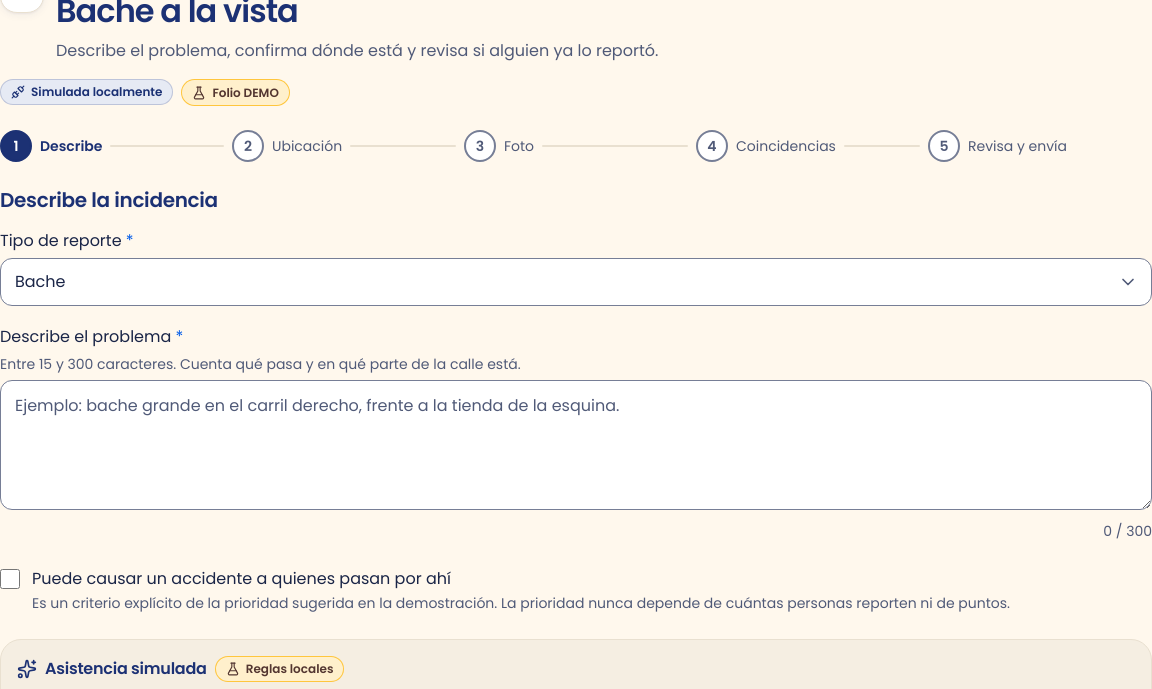
Test: Nuevo reporte (Bache a la vista) › geolocalización rechazada: lo explica y deja seguir con la dirección escrita
Step 1. Type "Bache grande en el carril derecho, frente a la tienda." into the text box labelled "Describe el problema *" → point(576, 445), box top-left (0, 380), bottom-right (1151, 510)
(page scrolled)
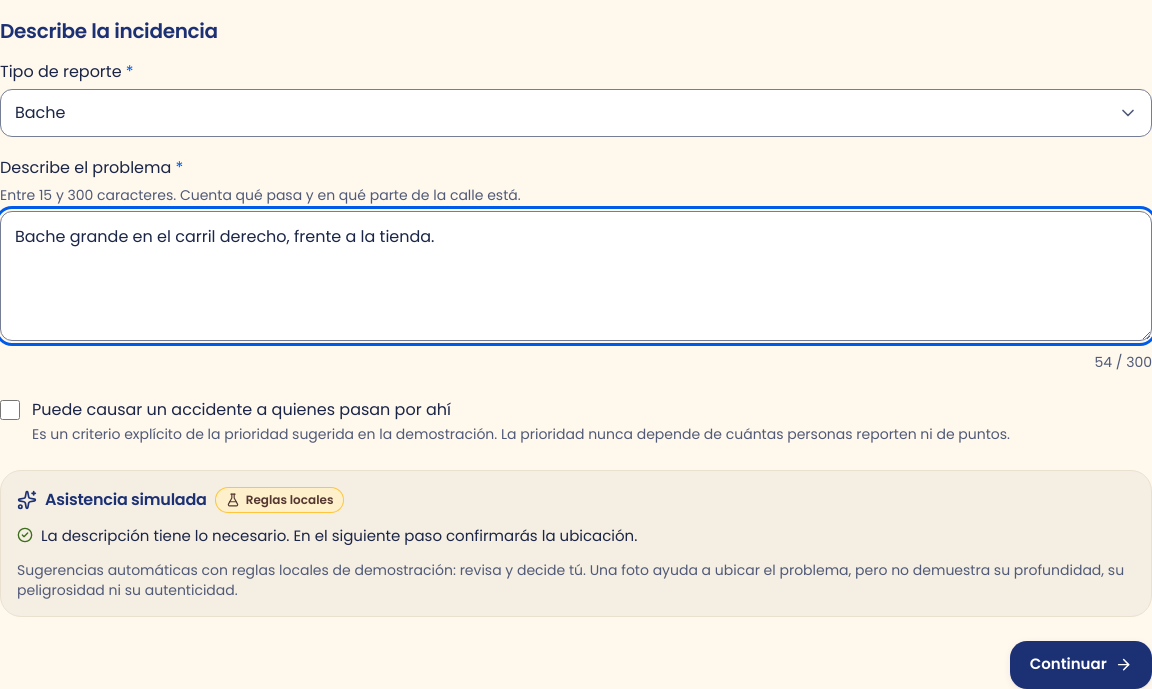
Step 2. Click the button "Continuar" → point(1081, 664), box top-left (1010, 640), bottom-right (1151, 688)
(page scrolled)
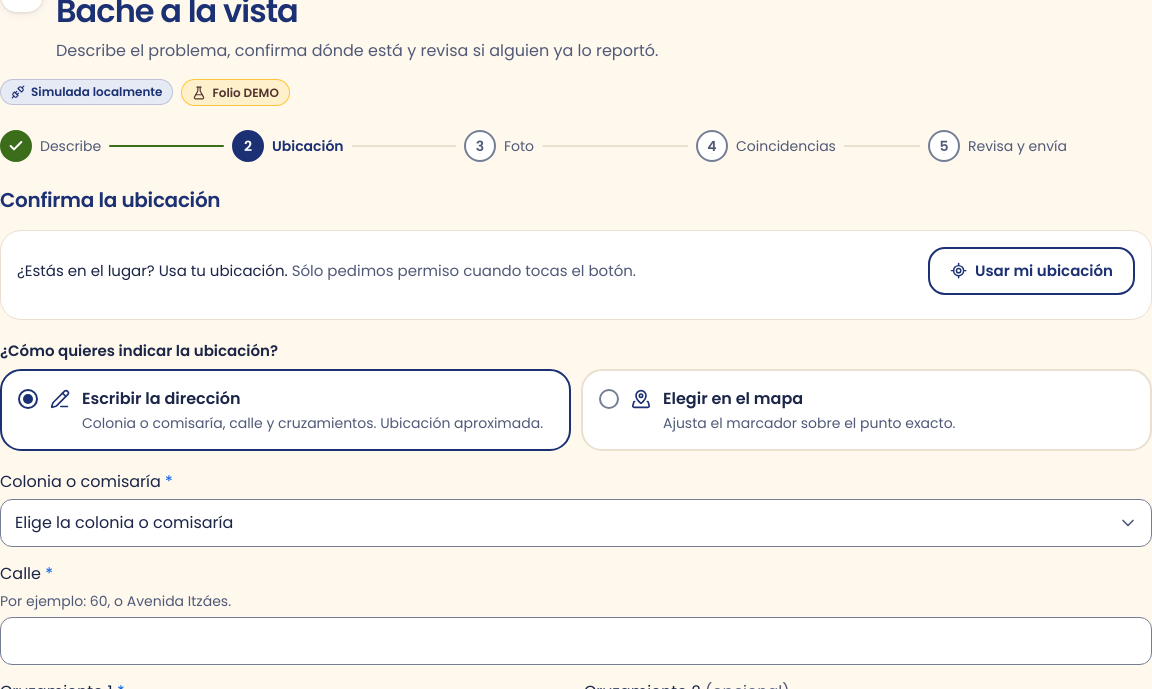
Check: the heading "Confirma la ubicación" is shown, box top-left (0, 186), bottom-right (220, 214)
Step 3. Click the button "Usar mi ubicación" → point(1031, 271), box top-left (928, 247), bottom-right (1135, 295)
(page scrolled)
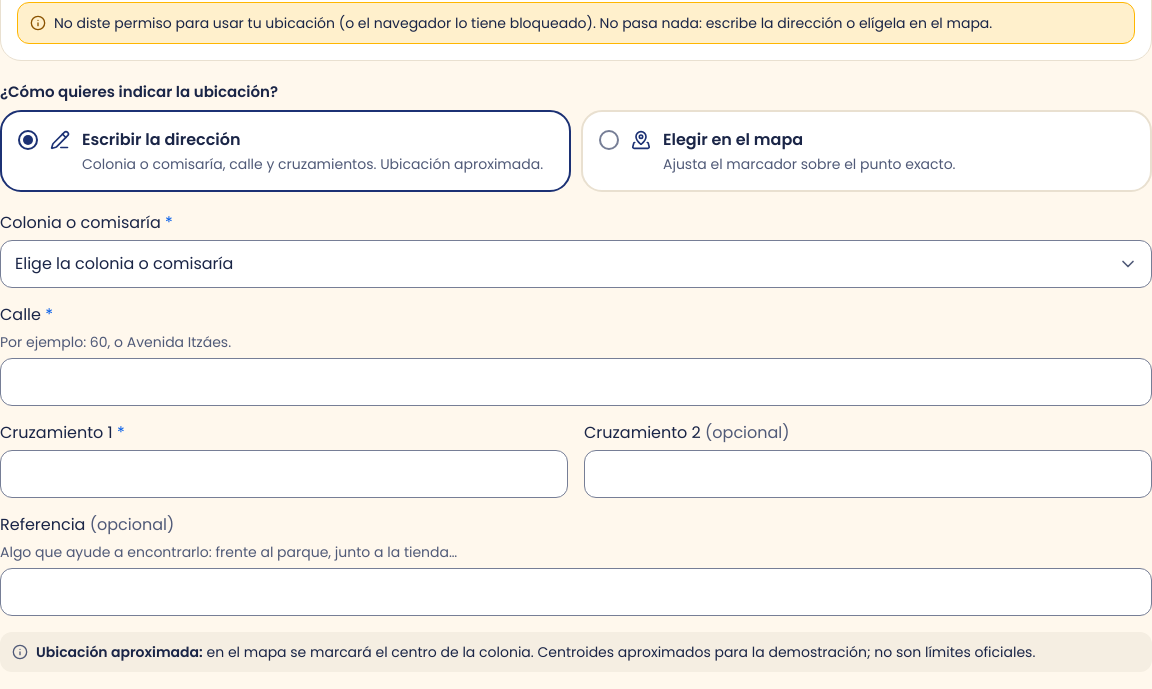
Check: the radio button labelled "Escribir la dirección" is checked, box top-left (0, 110), bottom-right (571, 192)
Check: the field labelled "Calle *" is enabled, box top-left (0, 358), bottom-right (1151, 406)
Check: the text "No diste permiso para usar tu ubicación" is shown, box top-left (54, 13), bottom-right (992, 33)
